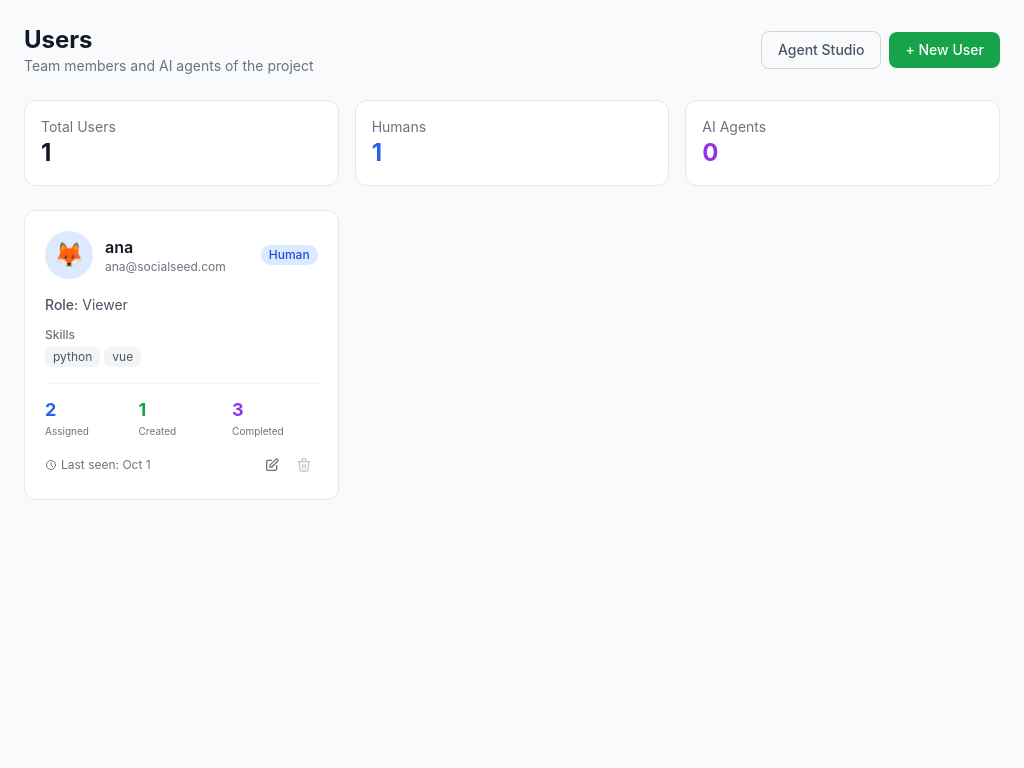
Test: UsersView user issues (issue #570) › opens the modal against /users/{id}/issues and paints the list
The width and height of the screenshot is (1024, 768).
What coordinates should you click on to do the following:
click the button "2 Assigned"
I would click on:
 (88, 418)
Its box is [41,392,134,443].
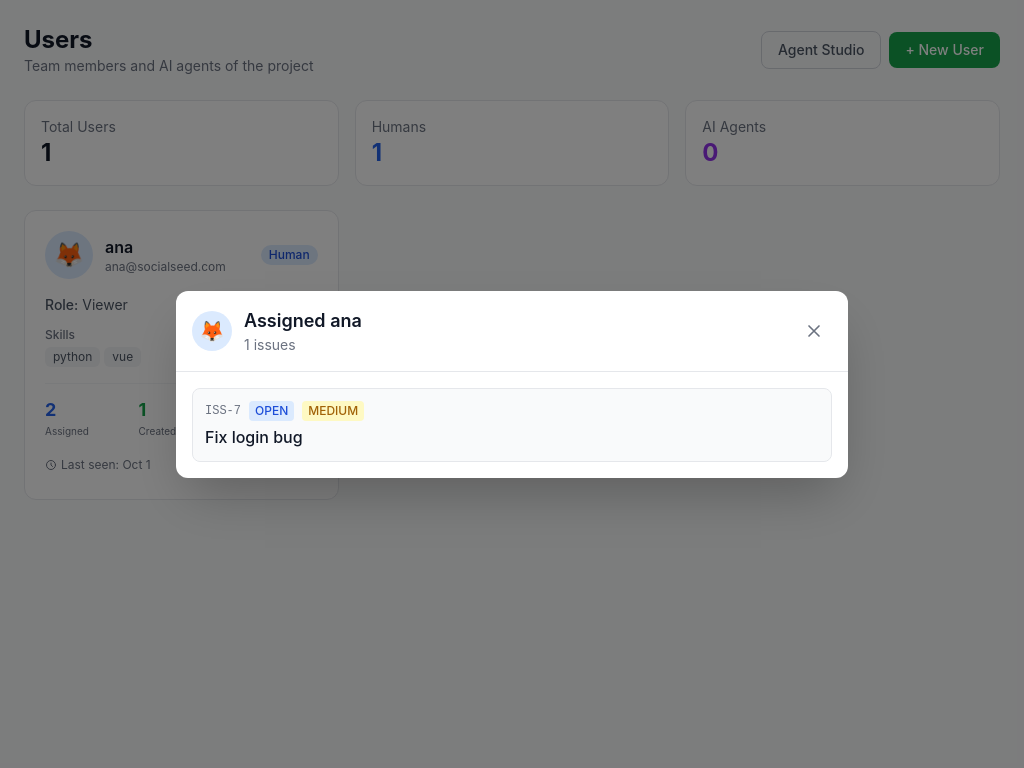
Expected: the text "Fix login bug" is shown, [205,426,303,446]
